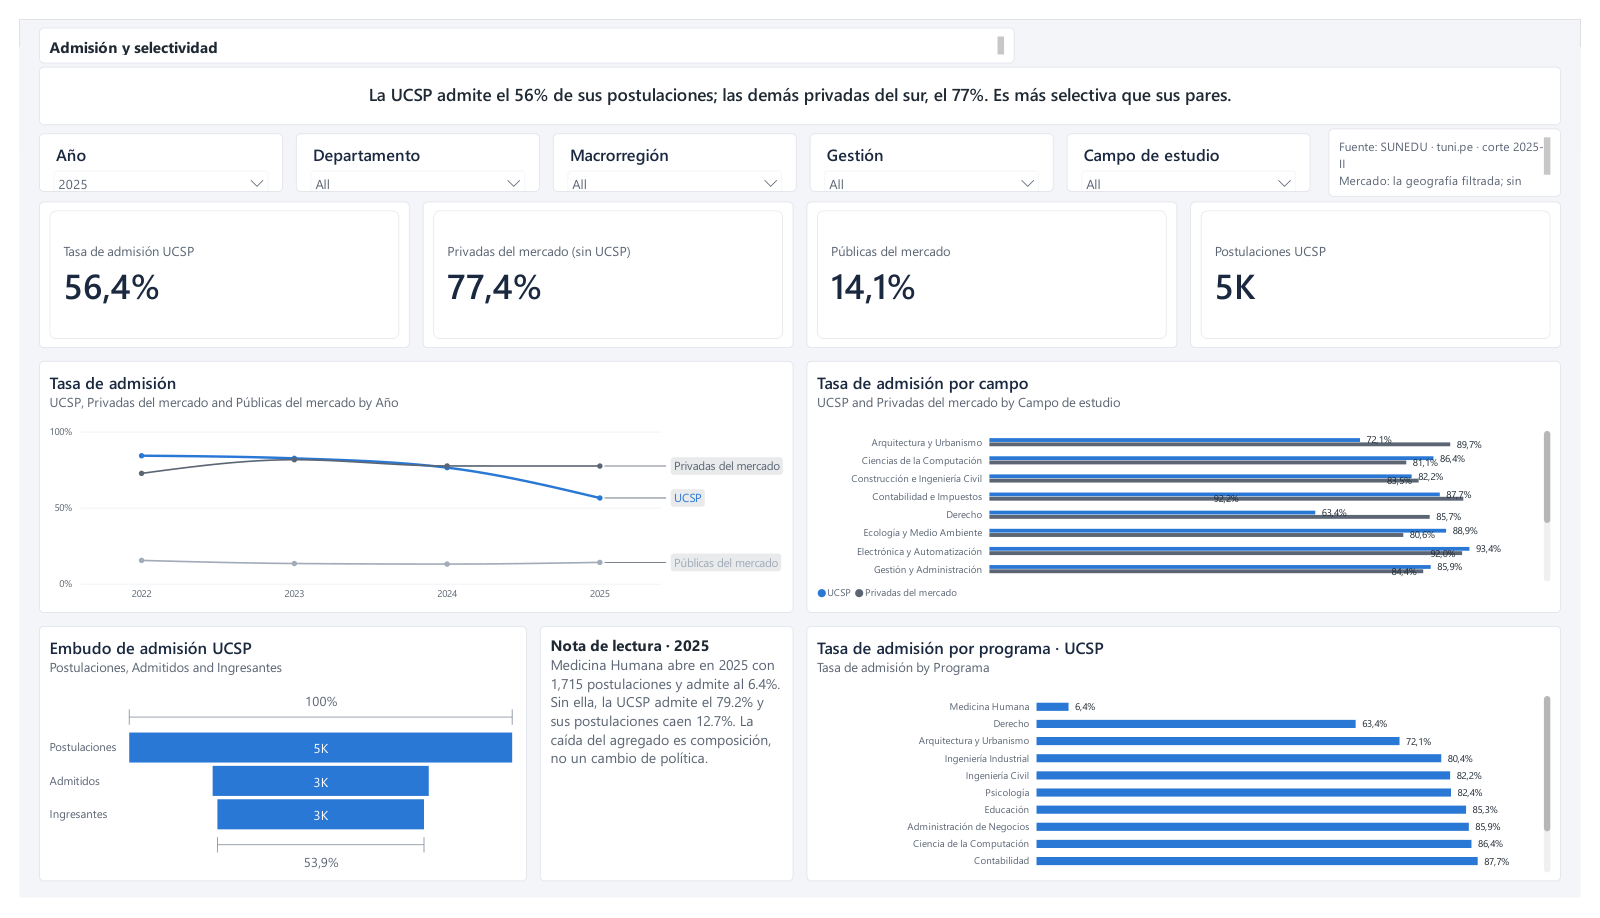

The dashboard page shown, as its layout file describes it:
{"tool":"powerbi","page":{"name":"Admisión y selectividad","canvas":[1920,1080],"ordinal":3},"visuals":[{"type":"textbox","box":[24,10,1200,44],"z":0},{"type":"card","fields":{"Values":["_Medidas.Titular Selectividad"]},"box":[24,58,1872,72],"z":1000},{"type":"slicer","fields":{"Values":["dim_periodo.anio"]},"box":[24,140,300,72],"z":2000},{"type":"slicer","fields":{"Values":["dim_ubicacion.departamento"]},"box":[340,140,300,72],"z":3000},{"type":"slicer","fields":{"Values":["dim_ubicacion.macrorregion"]},"box":[656,140,300,72],"z":4000},{"type":"slicer","fields":{"Values":["dim_universidad.tipo_gestion"]},"box":[972,140,300,72],"z":5000},{"type":"slicer","fields":{"Values":["dim_programa.campo_estudio"]},"box":[1288,140,300,72],"z":6000},{"type":"textbox","box":[1610,134,286,84],"z":7000},{"type":"cardVisual","fields":{"Data":["_Medidas.Tasa de Admision UCSP"],"ReferenceLabels":["_Medidas.Var. Tasa de Admision UCSP (pp)"]},"box":[24,224,456,180],"z":8000},{"type":"cardVisual","fields":{"Data":["_Medidas.Tasa de Admision Privadas del Sur"]},"box":[496,224,456,180],"z":9000},{"type":"cardVisual","fields":{"Data":["_Medidas.Tasa de Admision Publicas del Sur"]},"box":[968,224,456,180],"z":10000},{"type":"cardVisual","fields":{"Data":["_Medidas.Postulaciones"],"ReferenceLabels":["_Medidas.Var. Postulaciones (%)"]},"box":[1440,224,456,180],"z":11000},{"type":"lineChart","title":"Tasa de admisión","fields":{"Category":["dim_periodo.anio"],"Y":["_Medidas.Tasa de Admision UCSP","_Medidas.Tasa de Admision Privadas del Sur","_Medidas.Tasa de Admision Publicas del Sur"]},"box":[24,420,928,310],"z":12000},{"type":"clusteredBarChart","title":"Tasa de admisión por campo","fields":{"Category":["dim_programa.campo_estudio"],"Y":["_Medidas.Tasa de Admision UCSP","_Medidas.Tasa de Admision Privadas del Sur"]},"box":[968,420,928,310],"z":13000},{"type":"funnel","title":"Embudo de admisión UCSP","fields":{"Y":["_Medidas.Postulaciones","_Medidas.Admitidos","_Medidas.Ingresantes"]},"box":[24,746,600,314],"z":14000},{"type":"textbox","box":[640,746,312,314],"z":15000},{"type":"clusteredBarChart","title":"Tasa de admisión por programa · UCSP","fields":{"Category":["dim_programa.nombre_programa"],"Y":["_Medidas.Tasa de Admision"]},"box":[968,746,928,314],"z":16000}]}

Visuals, with their boxes in screenshot pixels (x1, y1, x2, y2), scaled from the page's 1920x1080 canvas onto the 1600x918 screenshot:
textbox: x1=20, y1=8, x2=1020, y2=46
card - _Medidas.Titular Selectividad: x1=20, y1=49, x2=1580, y2=110
slicer - dim_periodo.anio: x1=20, y1=119, x2=270, y2=180
slicer - dim_ubicacion.departamento: x1=283, y1=119, x2=533, y2=180
slicer - dim_ubicacion.macrorregion: x1=547, y1=119, x2=797, y2=180
slicer - dim_universidad.tipo_gestion: x1=810, y1=119, x2=1060, y2=180
slicer - dim_programa.campo_estudio: x1=1073, y1=119, x2=1323, y2=180
textbox: x1=1342, y1=114, x2=1580, y2=185
cardVisual - _Medidas.Tasa de Admision UCSP x _Medidas.Var. Tasa de Admision UCSP (pp): x1=20, y1=190, x2=400, y2=343
cardVisual - _Medidas.Tasa de Admision Privadas del Sur: x1=413, y1=190, x2=793, y2=343
cardVisual - _Medidas.Tasa de Admision Publicas del Sur: x1=807, y1=190, x2=1187, y2=343
cardVisual - _Medidas.Postulaciones x _Medidas.Var. Postulaciones (%): x1=1200, y1=190, x2=1580, y2=343
"Tasa de admisión" lineChart: x1=20, y1=357, x2=793, y2=620
"Tasa de admisión por campo" clusteredBarChart: x1=807, y1=357, x2=1580, y2=620
"Embudo de admisión UCSP" funnel: x1=20, y1=634, x2=520, y2=901
textbox: x1=533, y1=634, x2=793, y2=901
"Tasa de admisión por programa · UCSP" clusteredBarChart: x1=807, y1=634, x2=1580, y2=901
